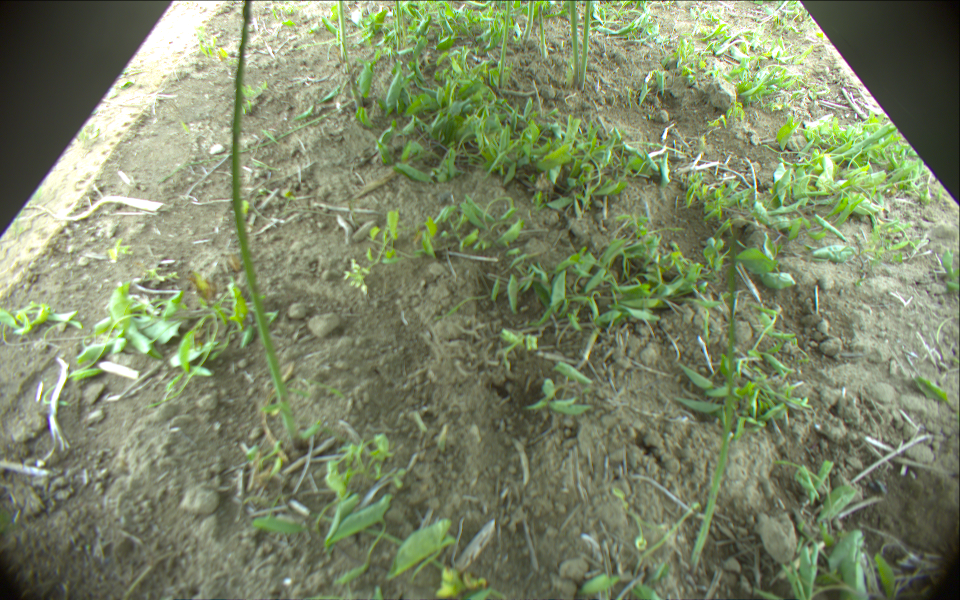aspa: (226, 1, 304, 451), (156, 94, 352, 181), (689, 235, 736, 566), (566, 1, 580, 82), (498, 1, 510, 89), (579, 1, 590, 90), (336, 1, 349, 61), (539, 1, 549, 59), (349, 71, 363, 111), (521, 1, 533, 44)
